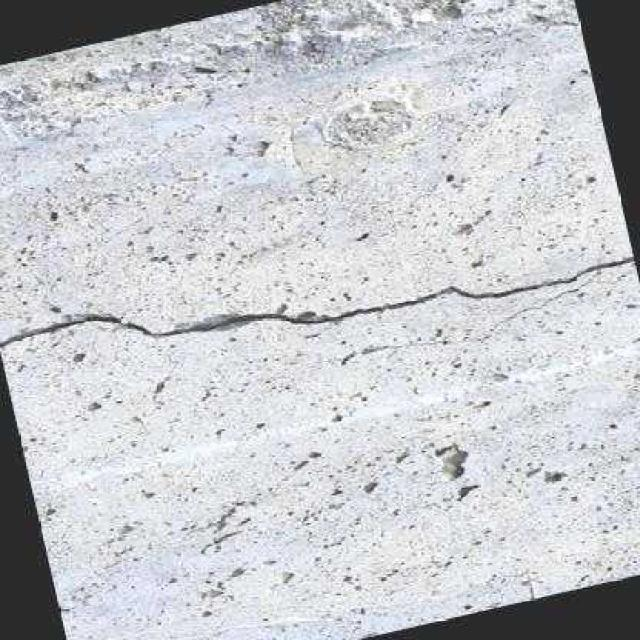D00: (0, 253, 635, 349)
